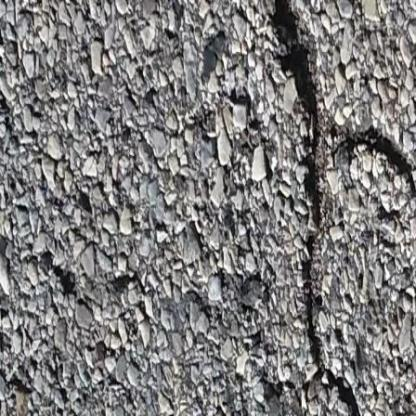Cracks: (243, 3, 410, 416)
